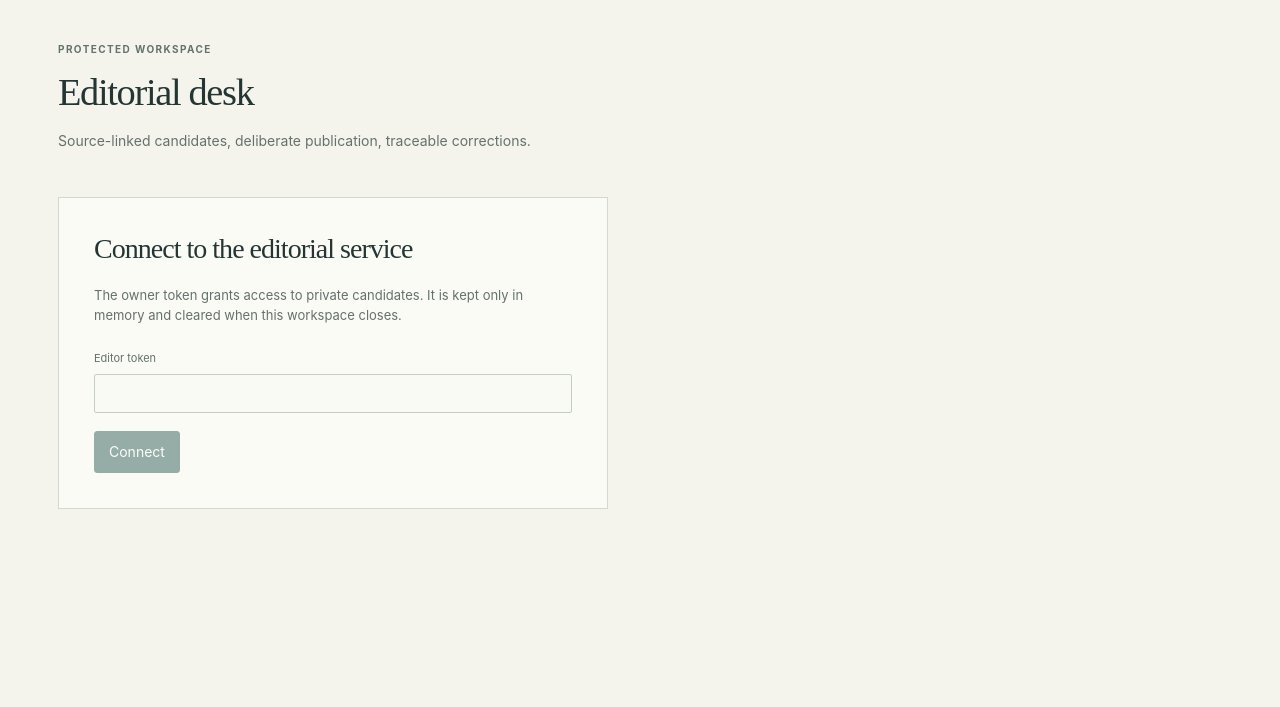
Test: authenticated editorial contract › surfaces revision conflicts and uses the expected revision in publication
Step 1. Type "test-runtime-token" into the password field labelled "Editor token" → (333, 394), box [94,374,572,413]
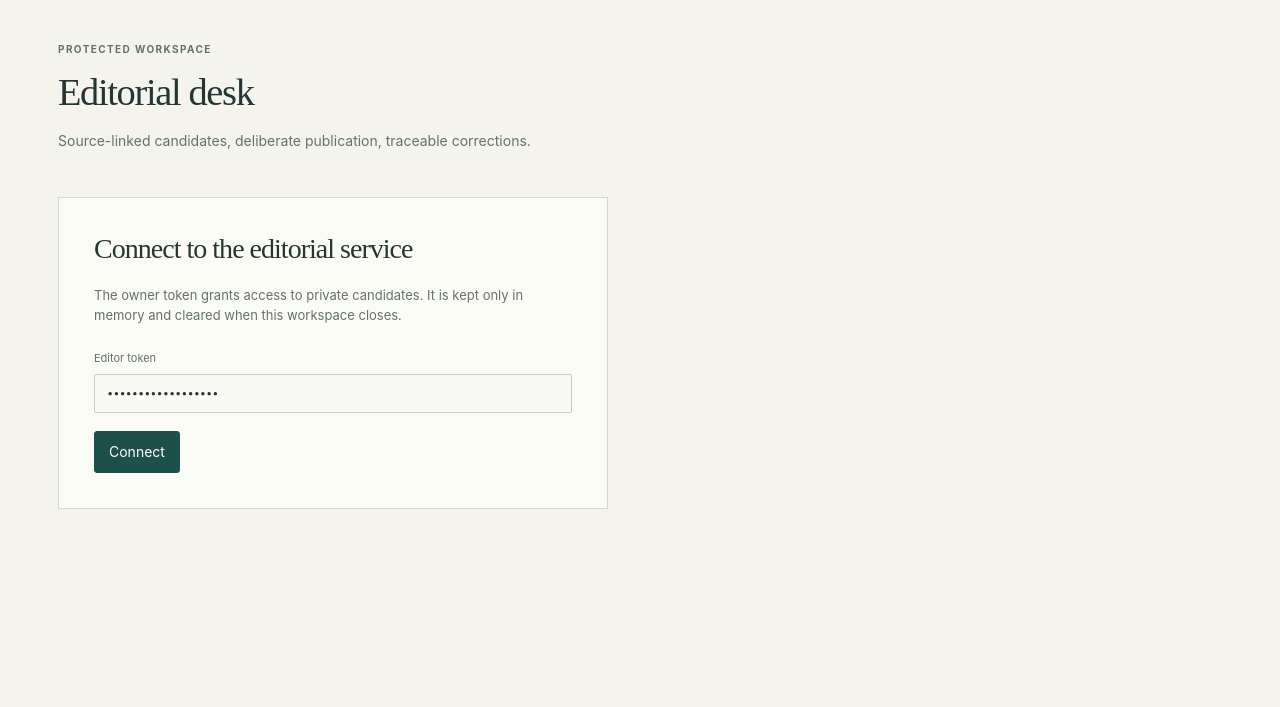
Step 2. Click the button "Connect" → (137, 452), box [94,431,180,473]
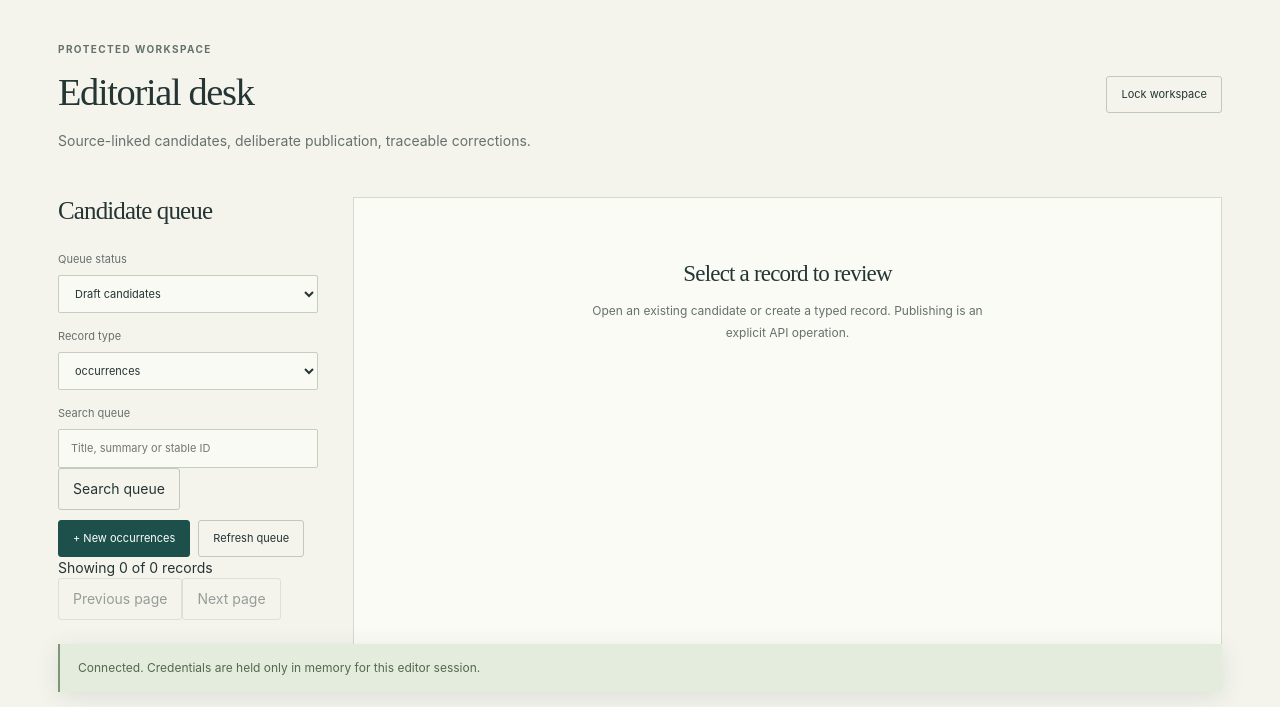
Expected: the heading "Candidate queue" is shown, [58,197,212,224]
Step 3. Select "actors" in the dropdown labelled "Record type" → (188, 371), box [58,352,318,390]
(page scrolled)
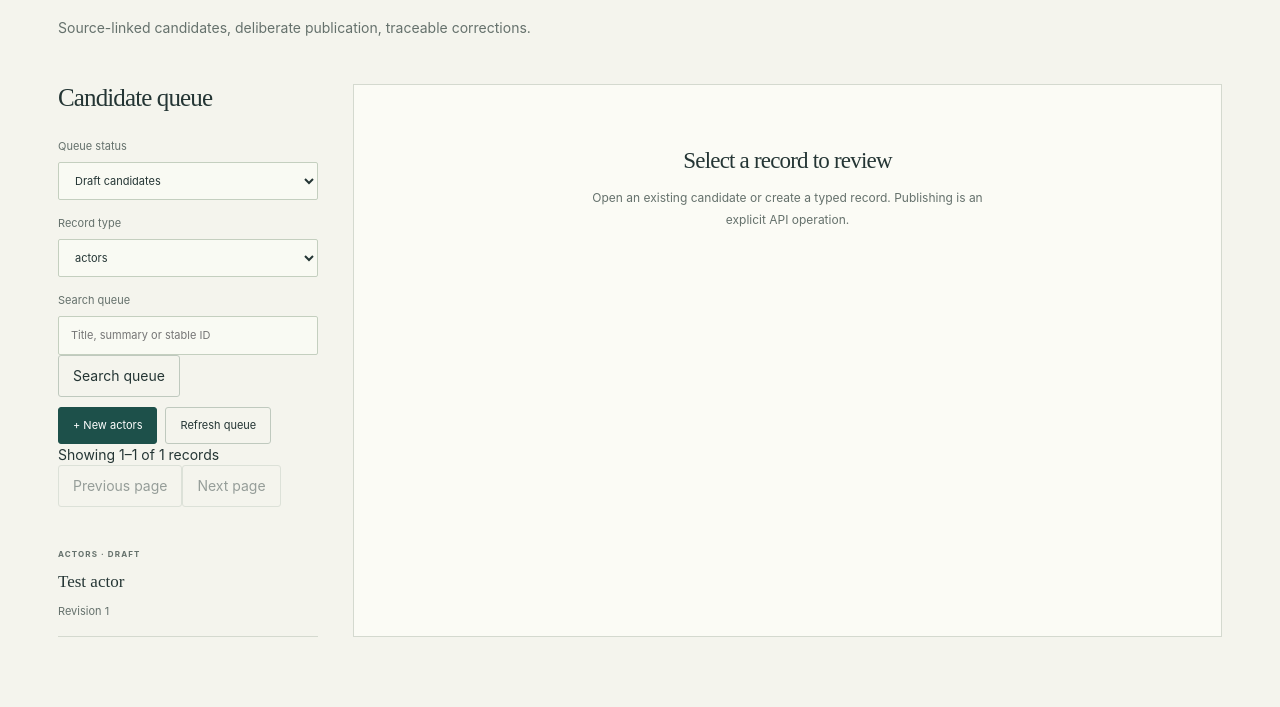
Step 4. Click the button "actors · draft Test actor Revision 1" → (78, 554), box [58,532,318,637]
(page scrolled)
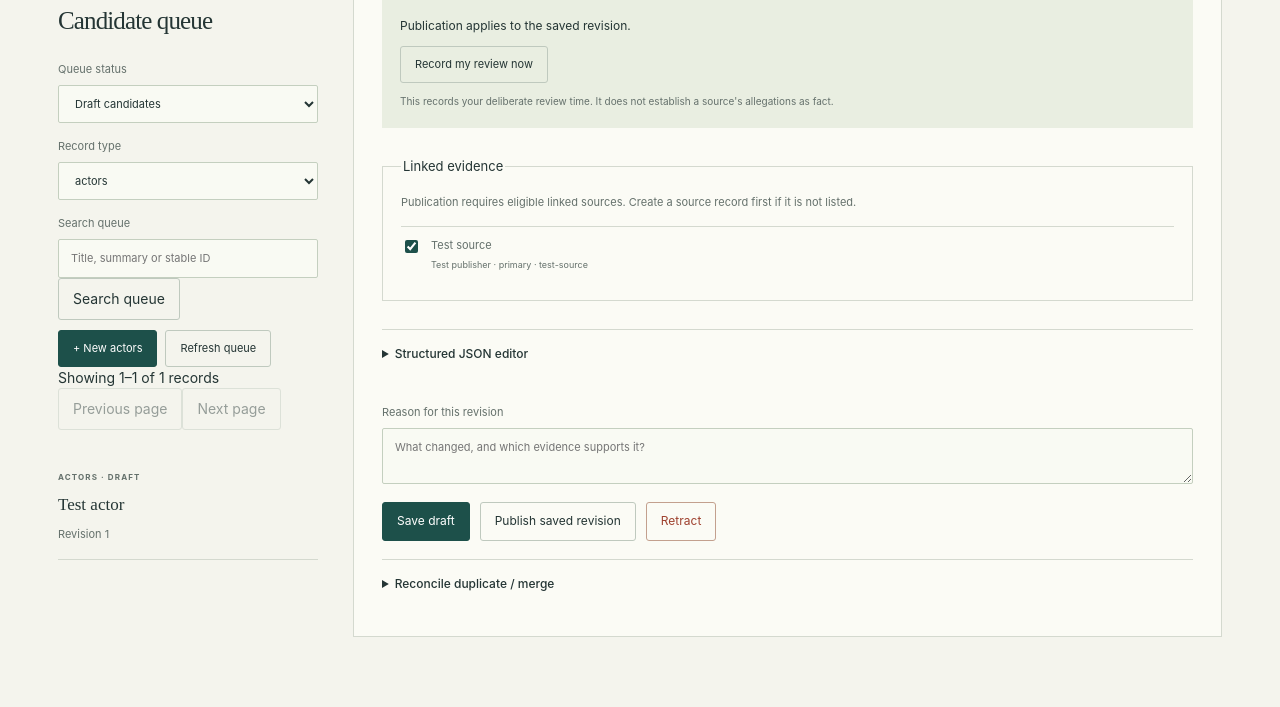
Step 5. Type "Publication test" into the text box labelled "Reason for this revision" → (788, 456), box [382,428,1193,484]
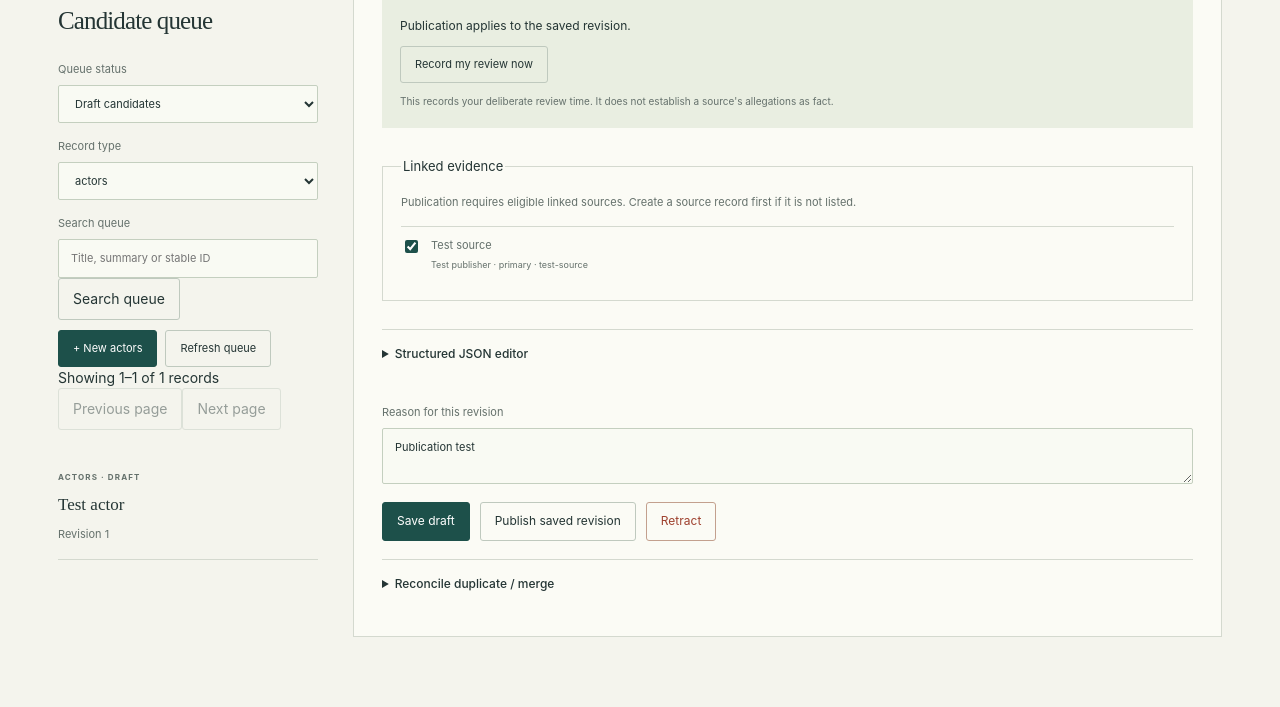
Step 6. Click the button "Publish saved revision" → (558, 521), box [480,502,636,540]
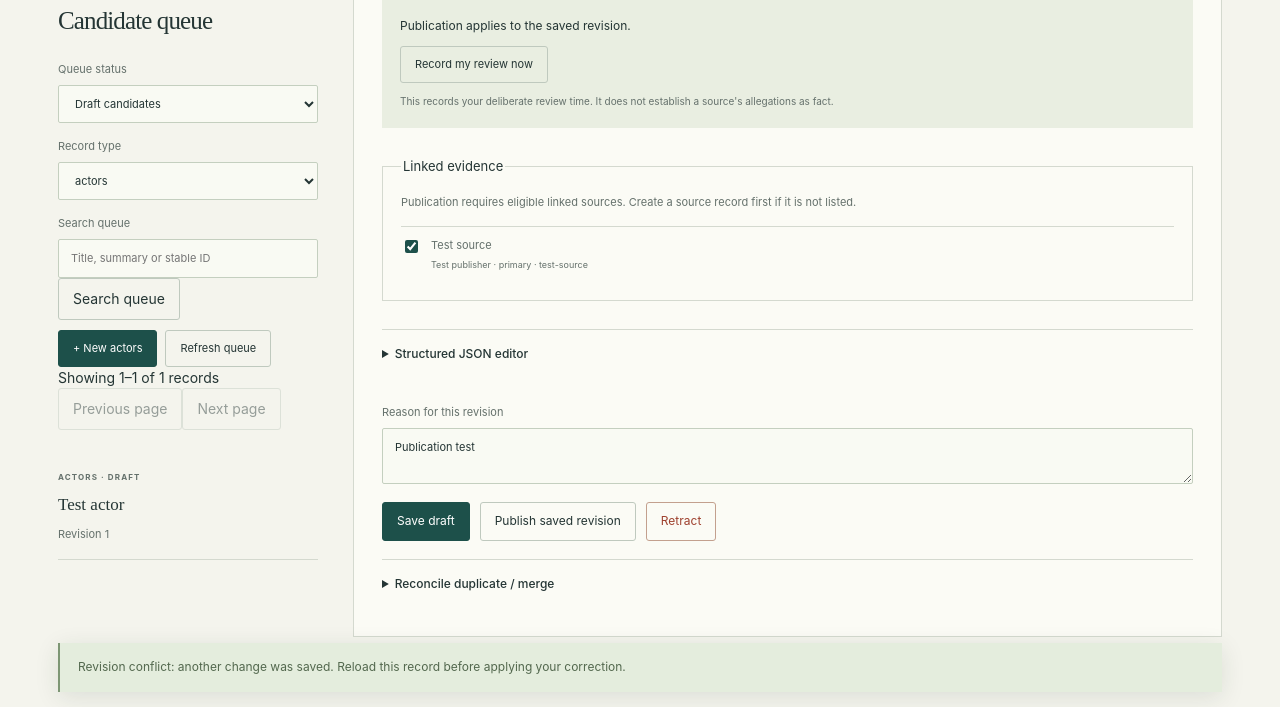
Expected: the text "Revision conflict" is shown, [78,659,626,674]
